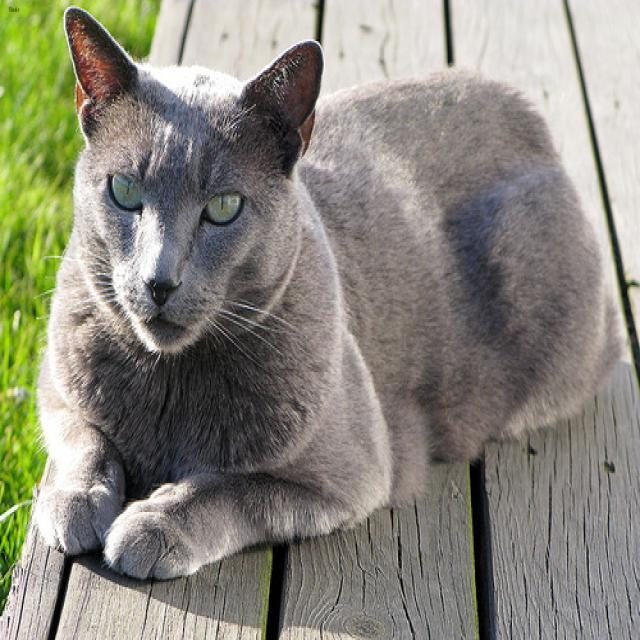Russian_Blue: (59, 1, 326, 357)
